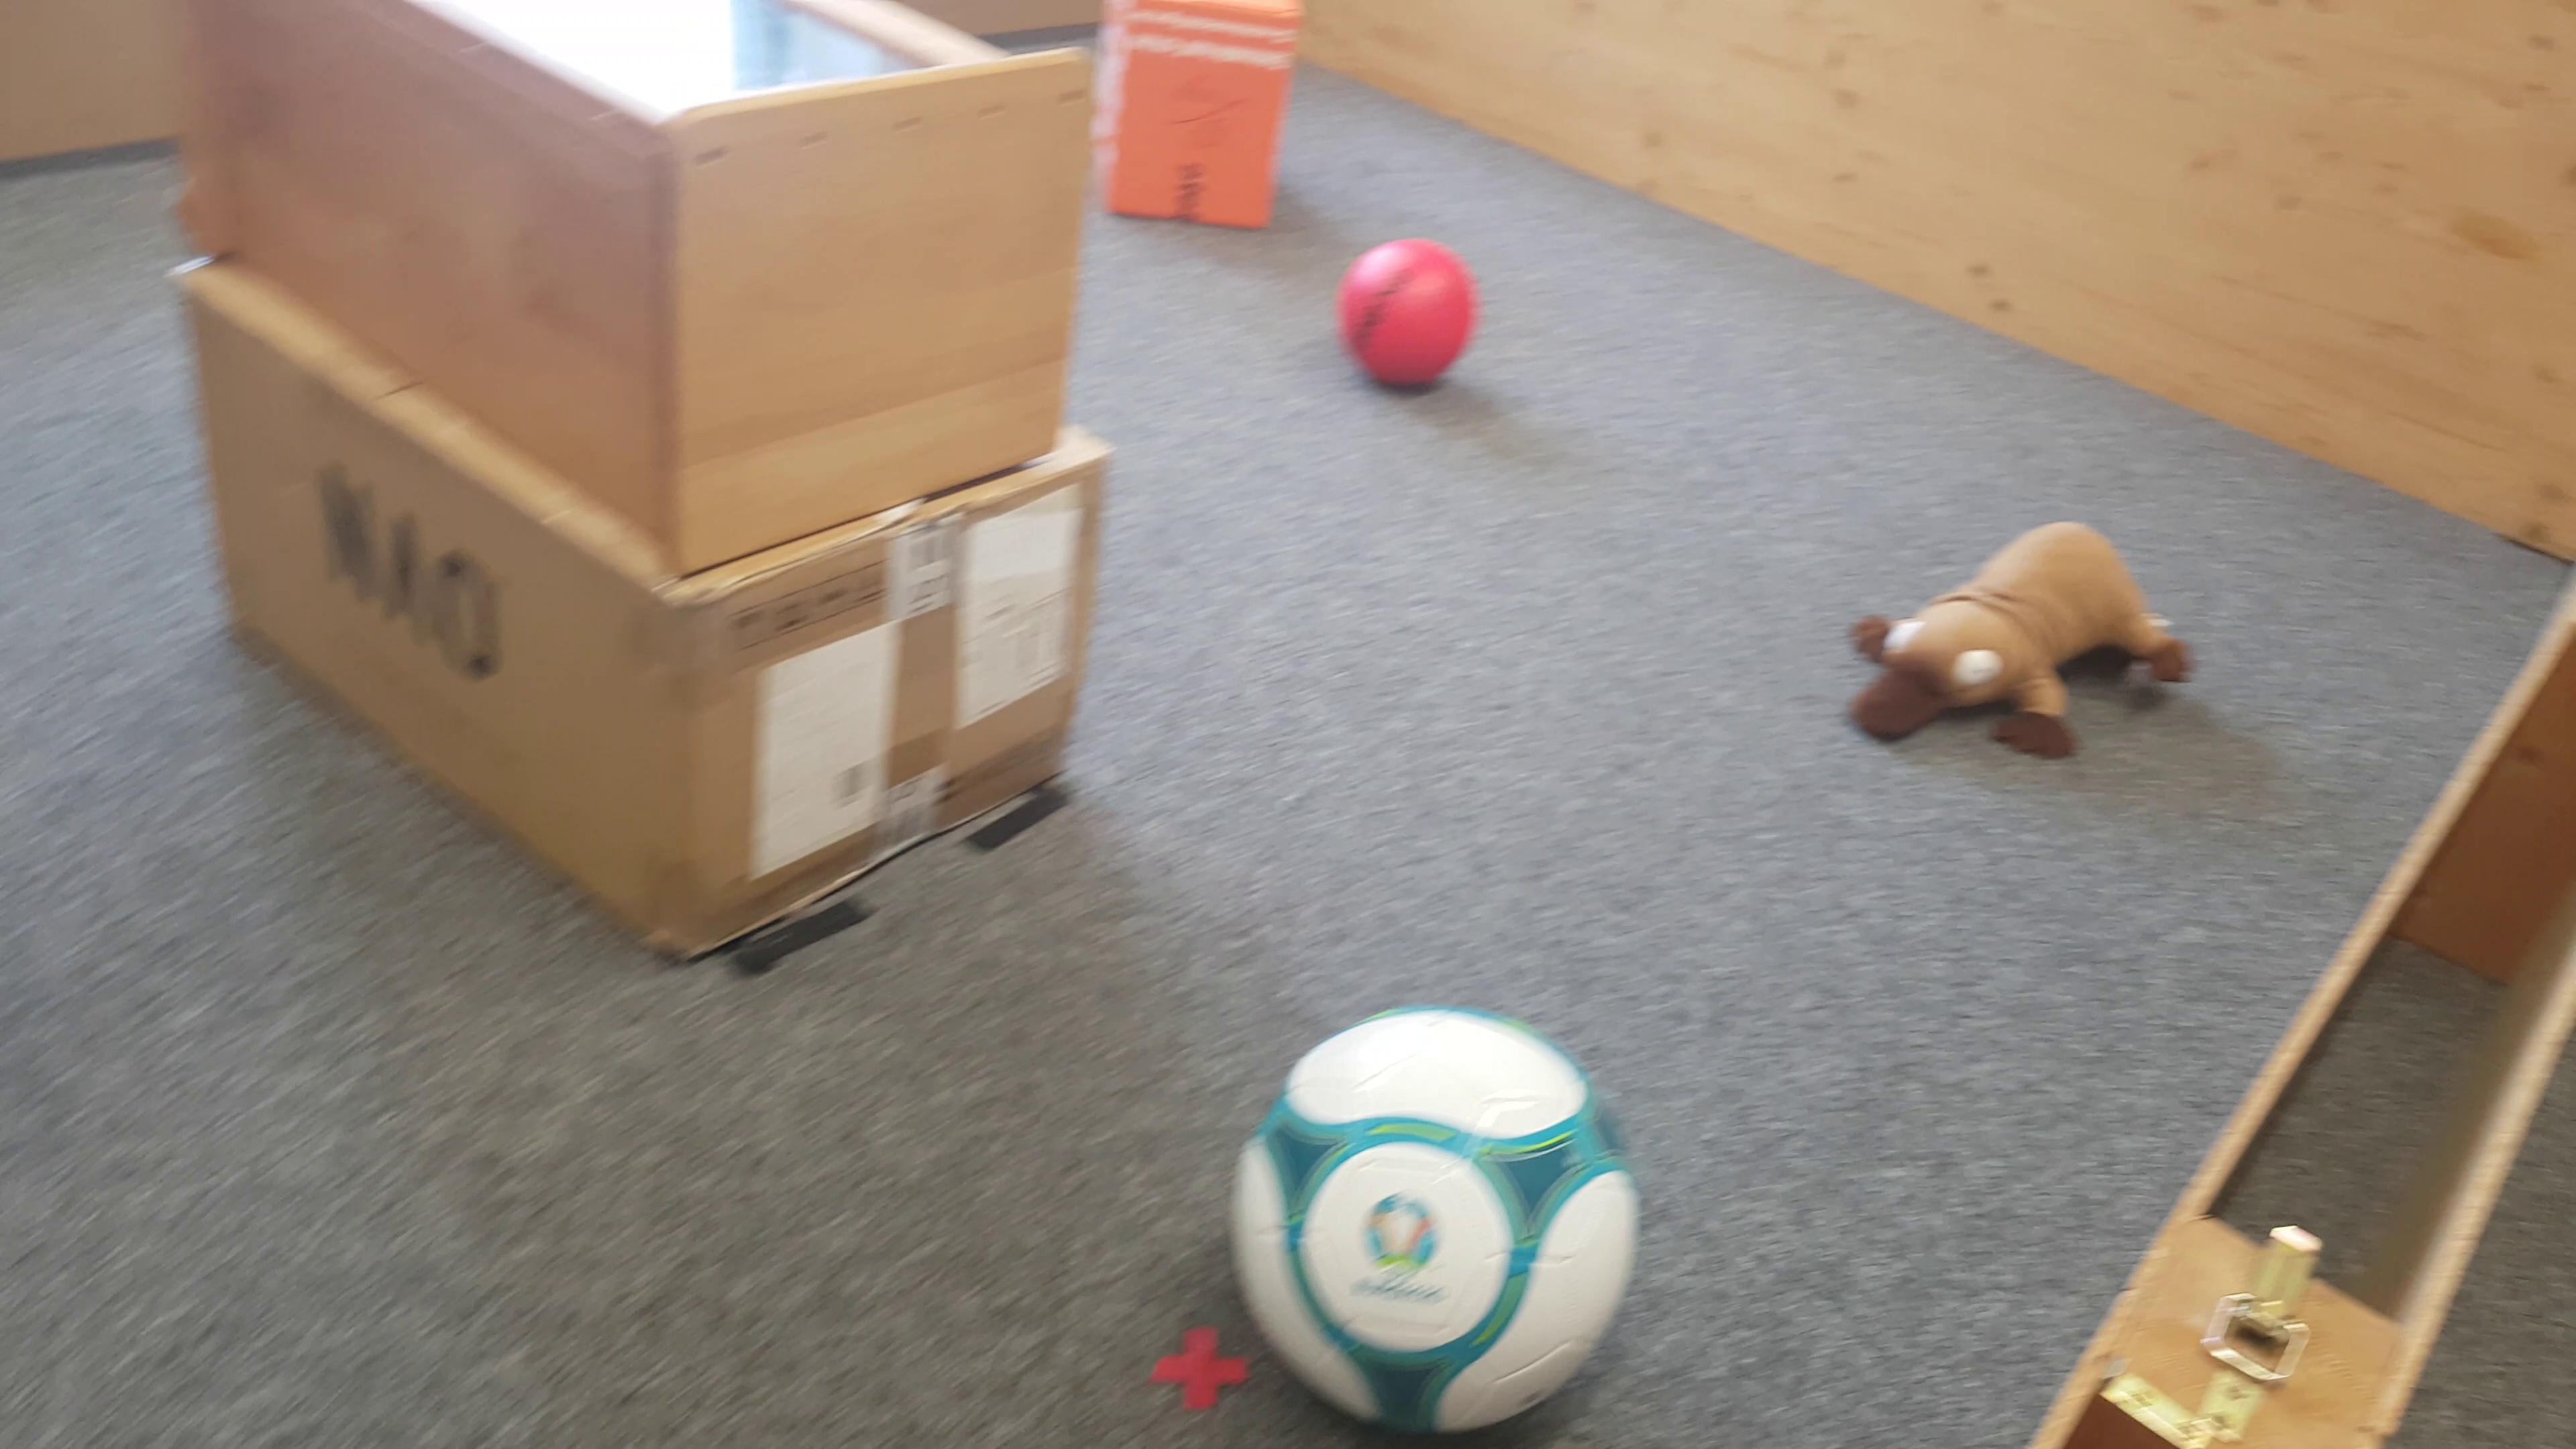grasp: (1845, 510, 2196, 775)
kick: (1235, 1000, 1645, 1437), (1350, 235, 1476, 398)
push: (1111, 4, 1309, 223)
